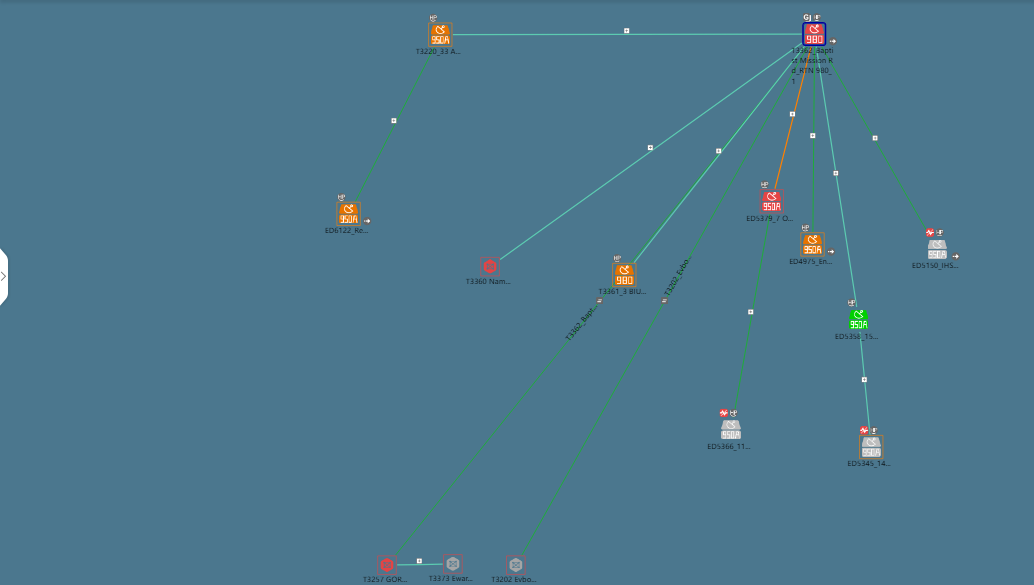Link_Blue: (501, 44, 793, 257), (630, 61, 792, 260), (818, 84, 861, 305), (856, 335, 874, 436)
Link_Green: (523, 57, 798, 549), (397, 283, 616, 549), (824, 57, 923, 225), (352, 50, 431, 204), (733, 218, 767, 396), (811, 50, 822, 250)
Link_Orange: (772, 50, 816, 184)
RTN_Gray: (927, 238, 952, 262), (721, 419, 745, 443), (863, 438, 887, 462)
RTN_Green: (850, 309, 866, 333)
RTN_Orange: (339, 199, 364, 229), (798, 231, 829, 255), (430, 24, 454, 49), (611, 263, 633, 286)
RTN_Red: (805, 24, 829, 49), (759, 192, 780, 217)
